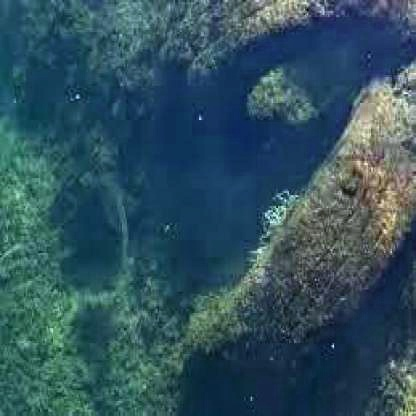tire: (215, 88, 416, 390)
